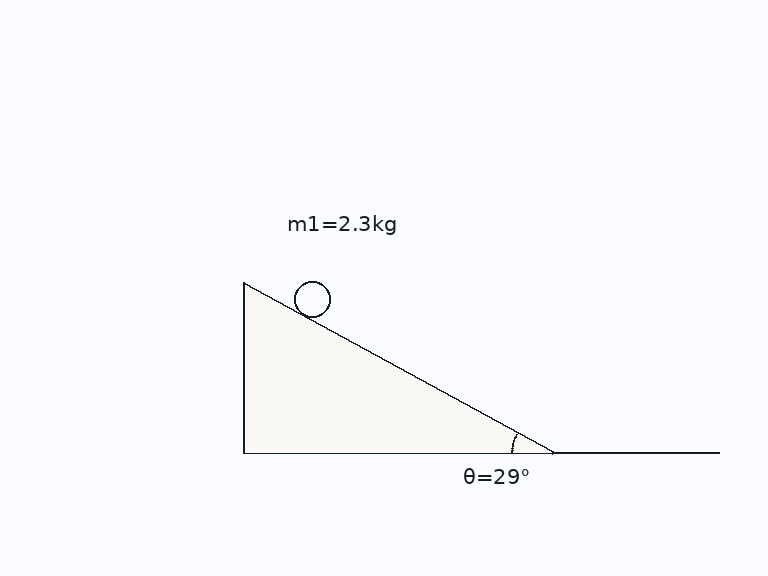ball: (292, 279, 332, 319)
ramp: (241, 280, 554, 455)
